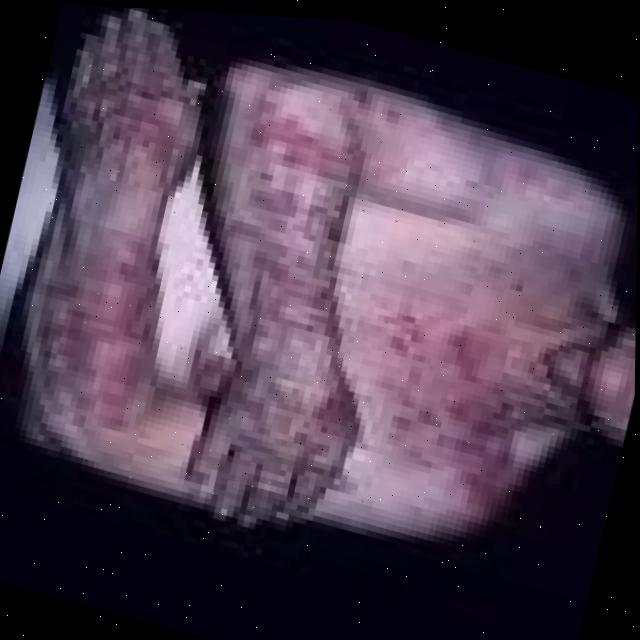Melasma: (211, 119, 375, 482), (31, 94, 193, 420), (384, 304, 545, 512)
